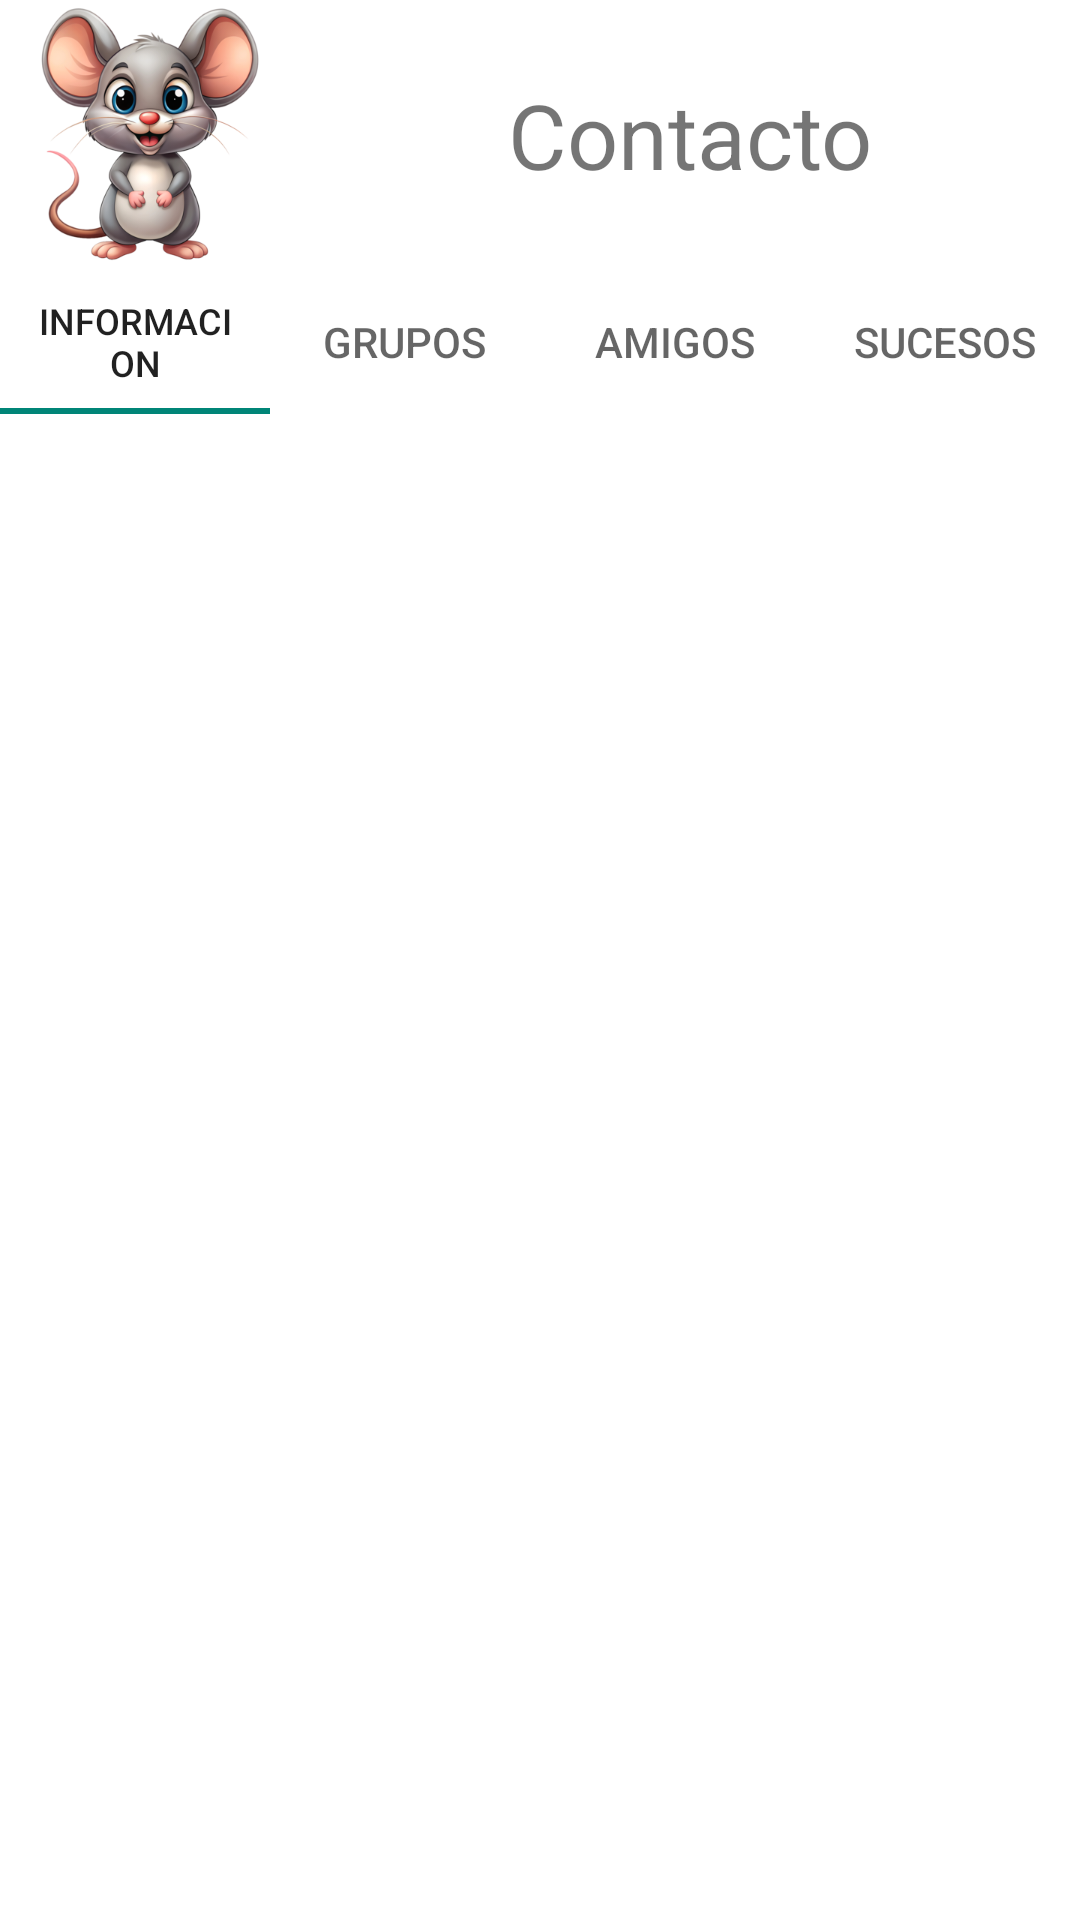

Point at icon controls on the screen. Image size 1080×1920, points as (x,y).
ratona: (150,134)
